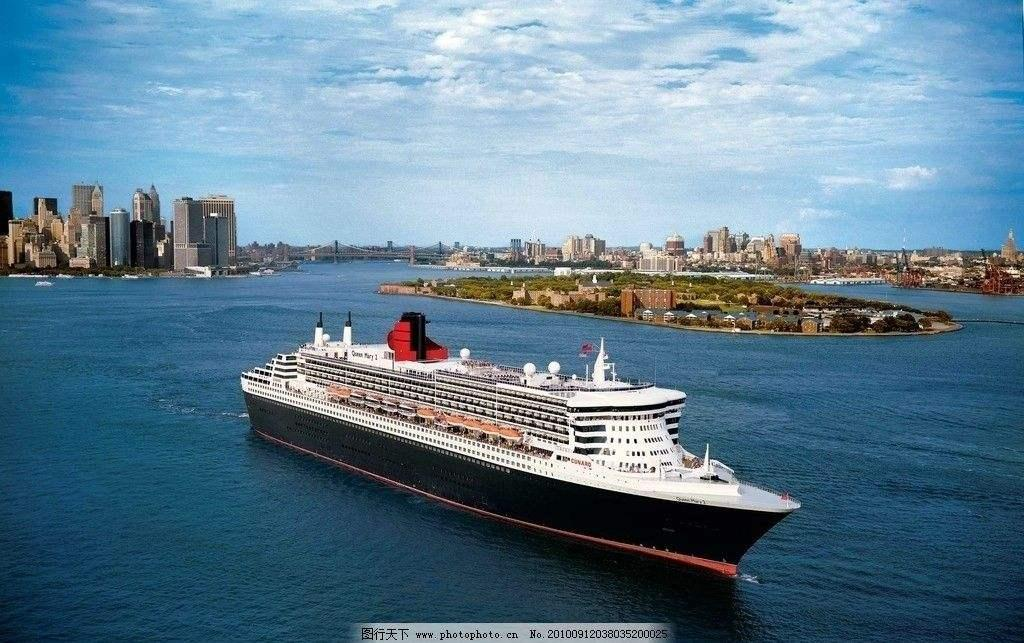youlun: (237, 306, 804, 577)
